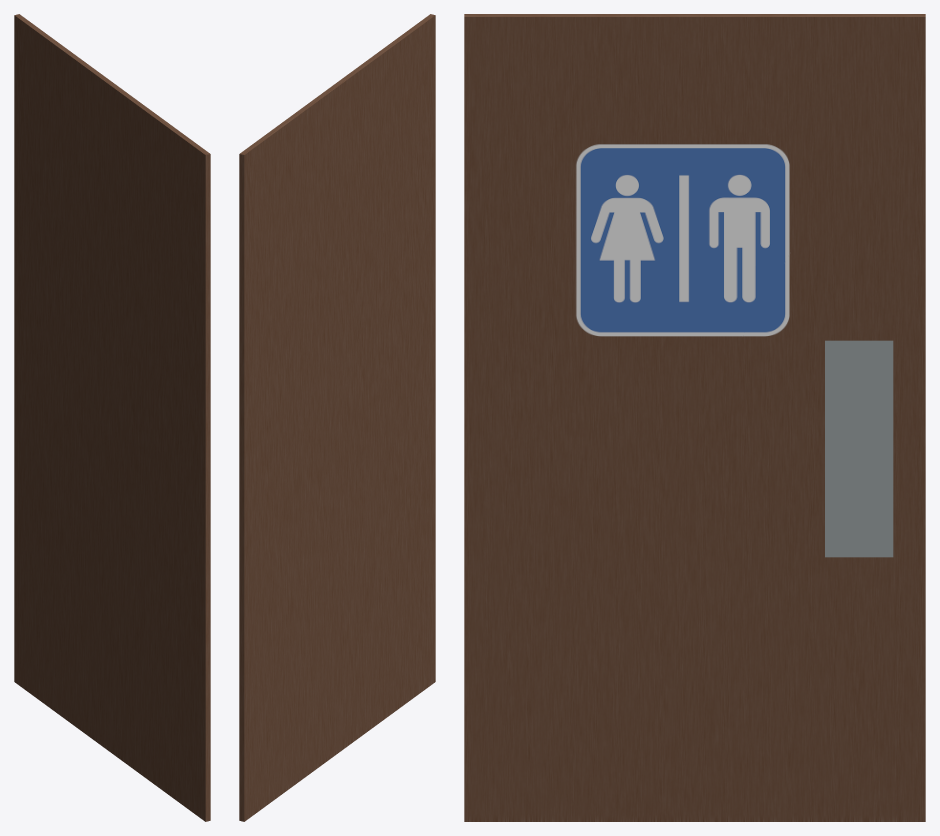
The model's file is BathroomDoor.fbx.
3 views of the same model, side by side, from view 1: azimuth 30°, elevation 25°; view 2: azimuth 150°, elevation 25°; view 3: azimuth 270°, elevation 25° (orthographic). The views are drawn at different scales.
Parts seen in each view (by area): view 1: polySurface12; view 2: polySurface12; view 3: polySurface12, polySurface13.
Part boxes in pixels (x1=…): polySurface12: x1=14, y1=14, x2=210, y2=821; polySurface12: x1=239, y1=14, x2=435, y2=821; polySurface12: x1=464, y1=14, x2=925, y2=821; polySurface13: x1=825, y1=340, x2=893, y2=557.
Size of the model in its own units: 0.2705 by 31.62 by 16.43.
2 materials, 1 textured.
